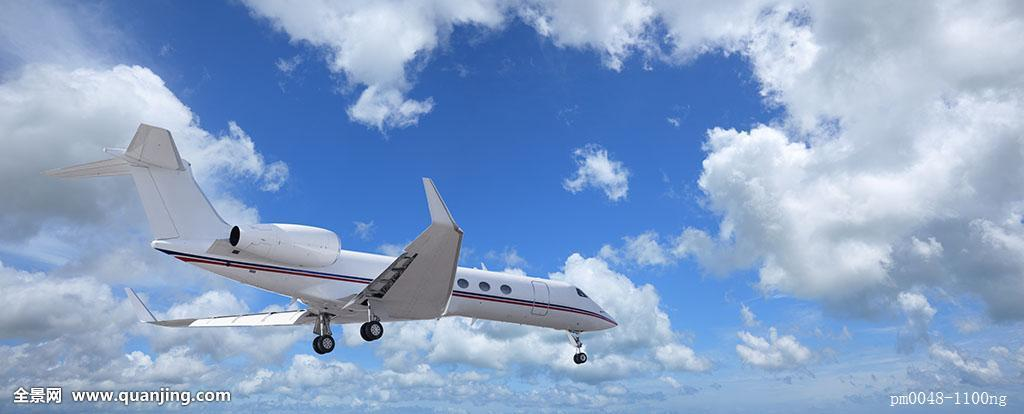airplane: (49, 122, 624, 368)
